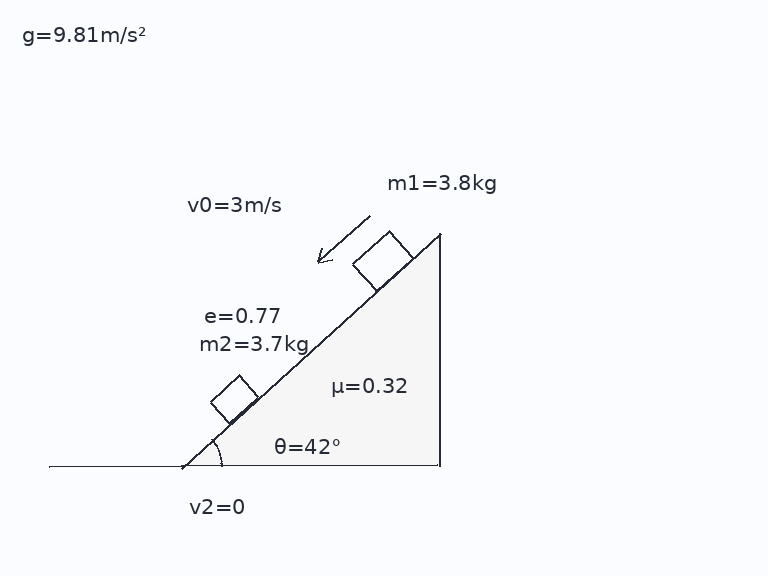block: (351, 230, 415, 293), (208, 374, 261, 425)
ramp: (180, 232, 442, 468)
